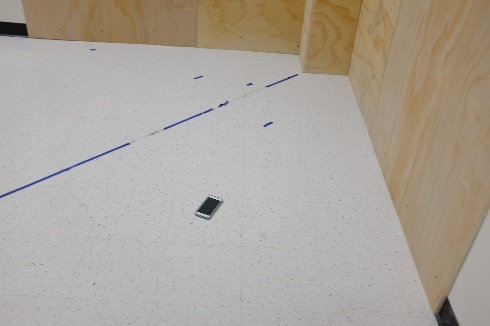phone: (186, 190, 235, 222)
